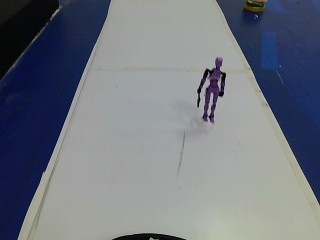burger: (241, 0, 267, 14)
pedestrian: (190, 54, 229, 125)
